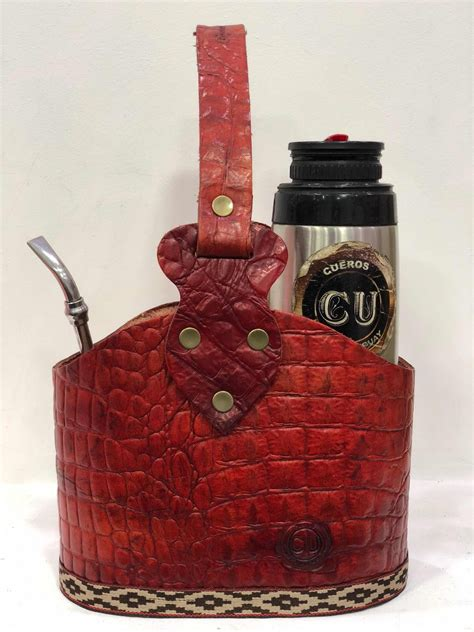cuero: (51, 22, 417, 620)
